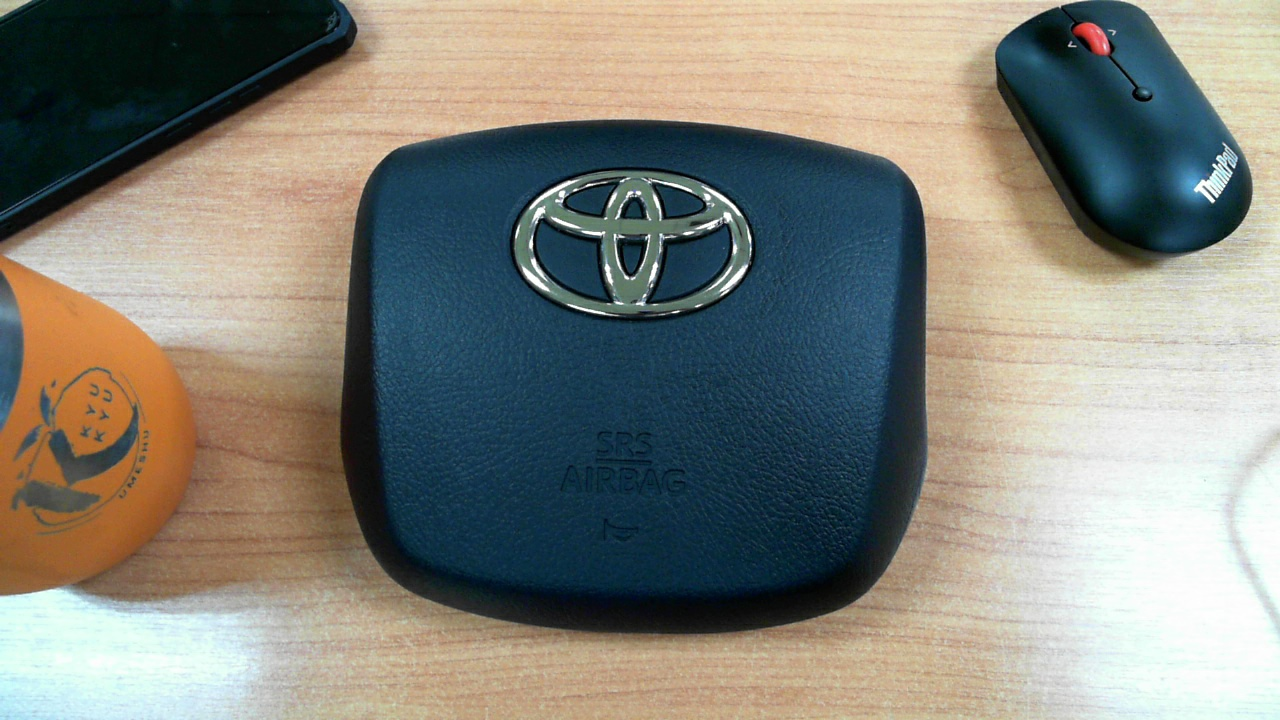Airbag: (295, 76, 970, 643)
